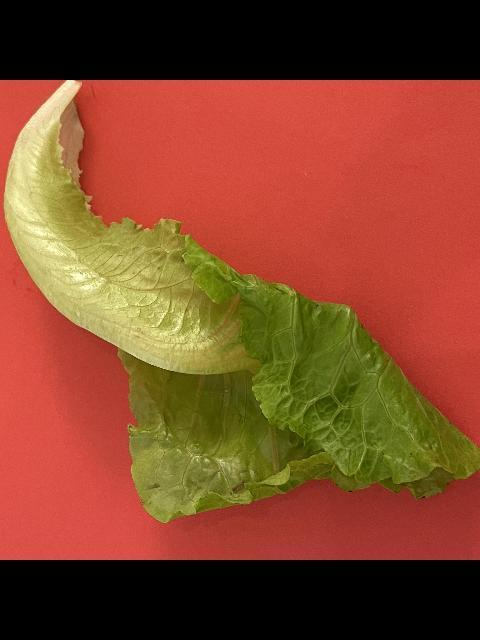lettuce: (0, 80, 480, 524)
